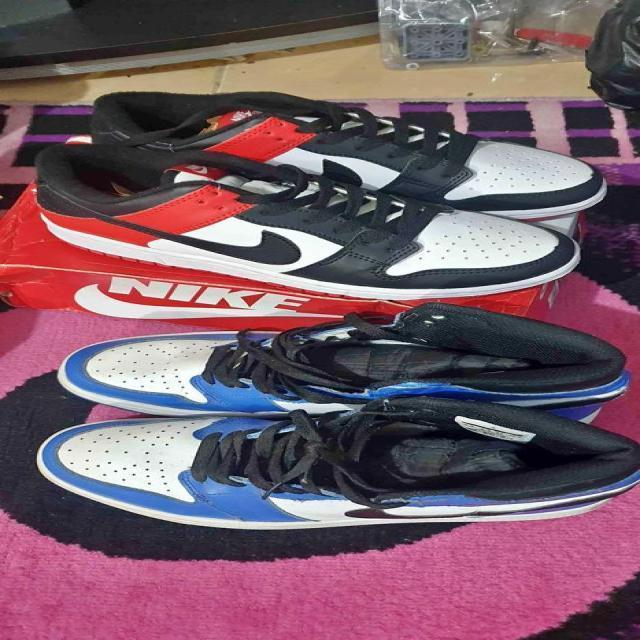nike fake jordan 1: (10, 137, 586, 306), (31, 413, 640, 537), (68, 88, 610, 220), (58, 305, 640, 425)
